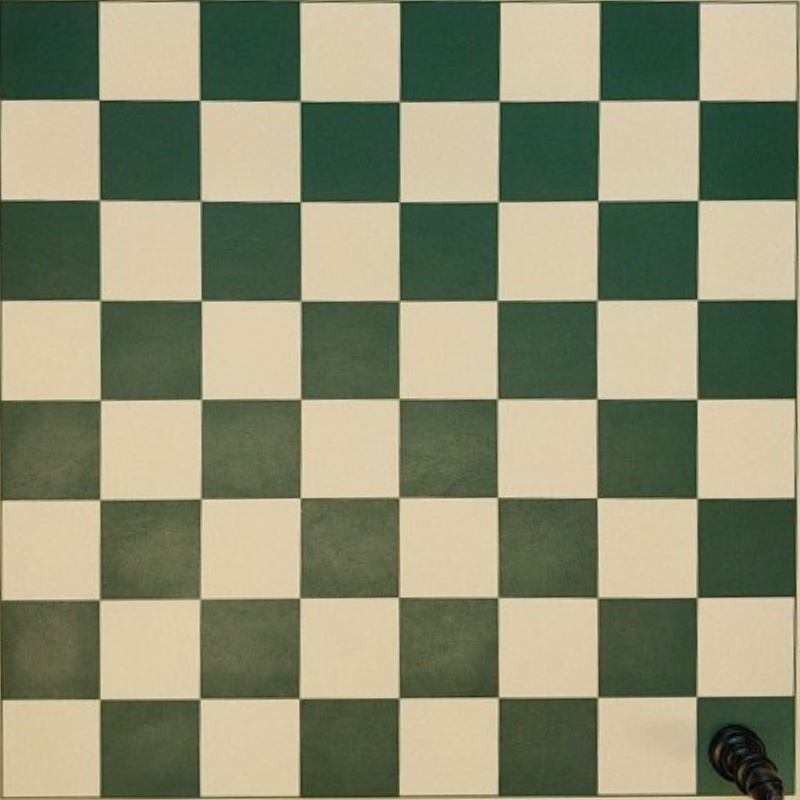black-bishop: (709, 723, 786, 799)
